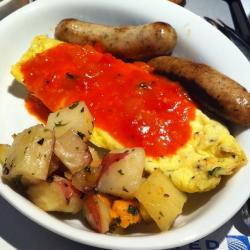omelette: (4, 37, 240, 191)
